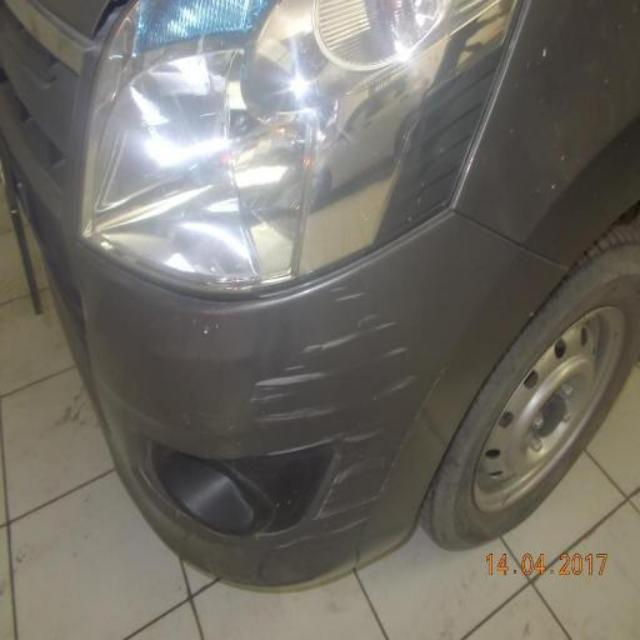rub: (256, 365, 446, 549), (246, 282, 421, 419)
